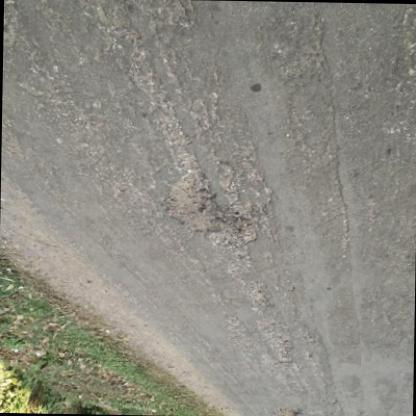pothole: (164, 160, 260, 245), (254, 286, 295, 367)
